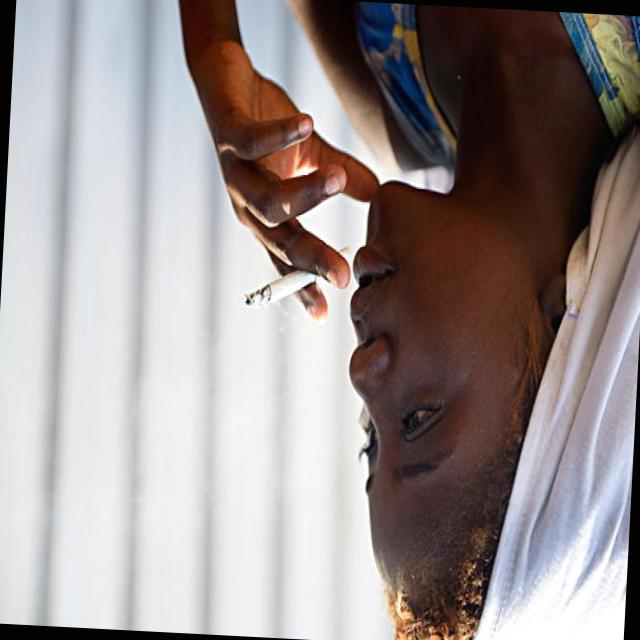smoke: (220, 235, 369, 322)
